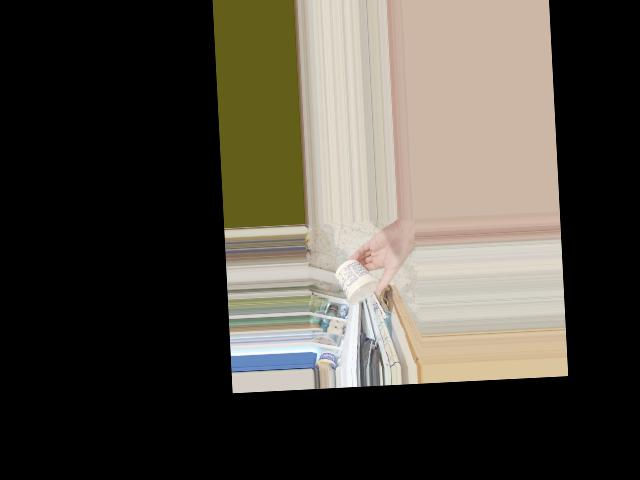cotage: (336, 259, 377, 305)
